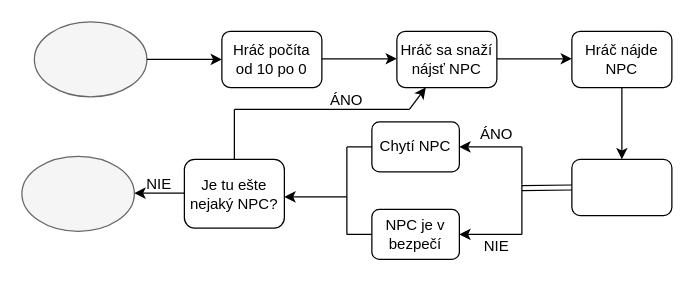
The diagram is 694 pixels wide and 281 high, and some of its shapes have lost their labels. The shapes that lost their labels are listed below. From the top down, each one's centre as x and y in pixels, then its label:
At (90,59): "Začiatok".
At (77,193): "Koniec".
At (621,187): "Príde hráč prvý na základňu?".
